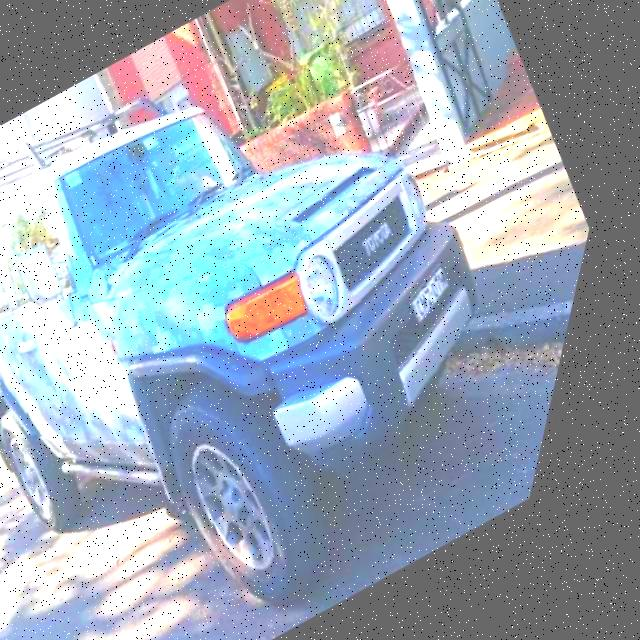license_plate: (406, 262, 481, 326), (0, 402, 1, 423)
